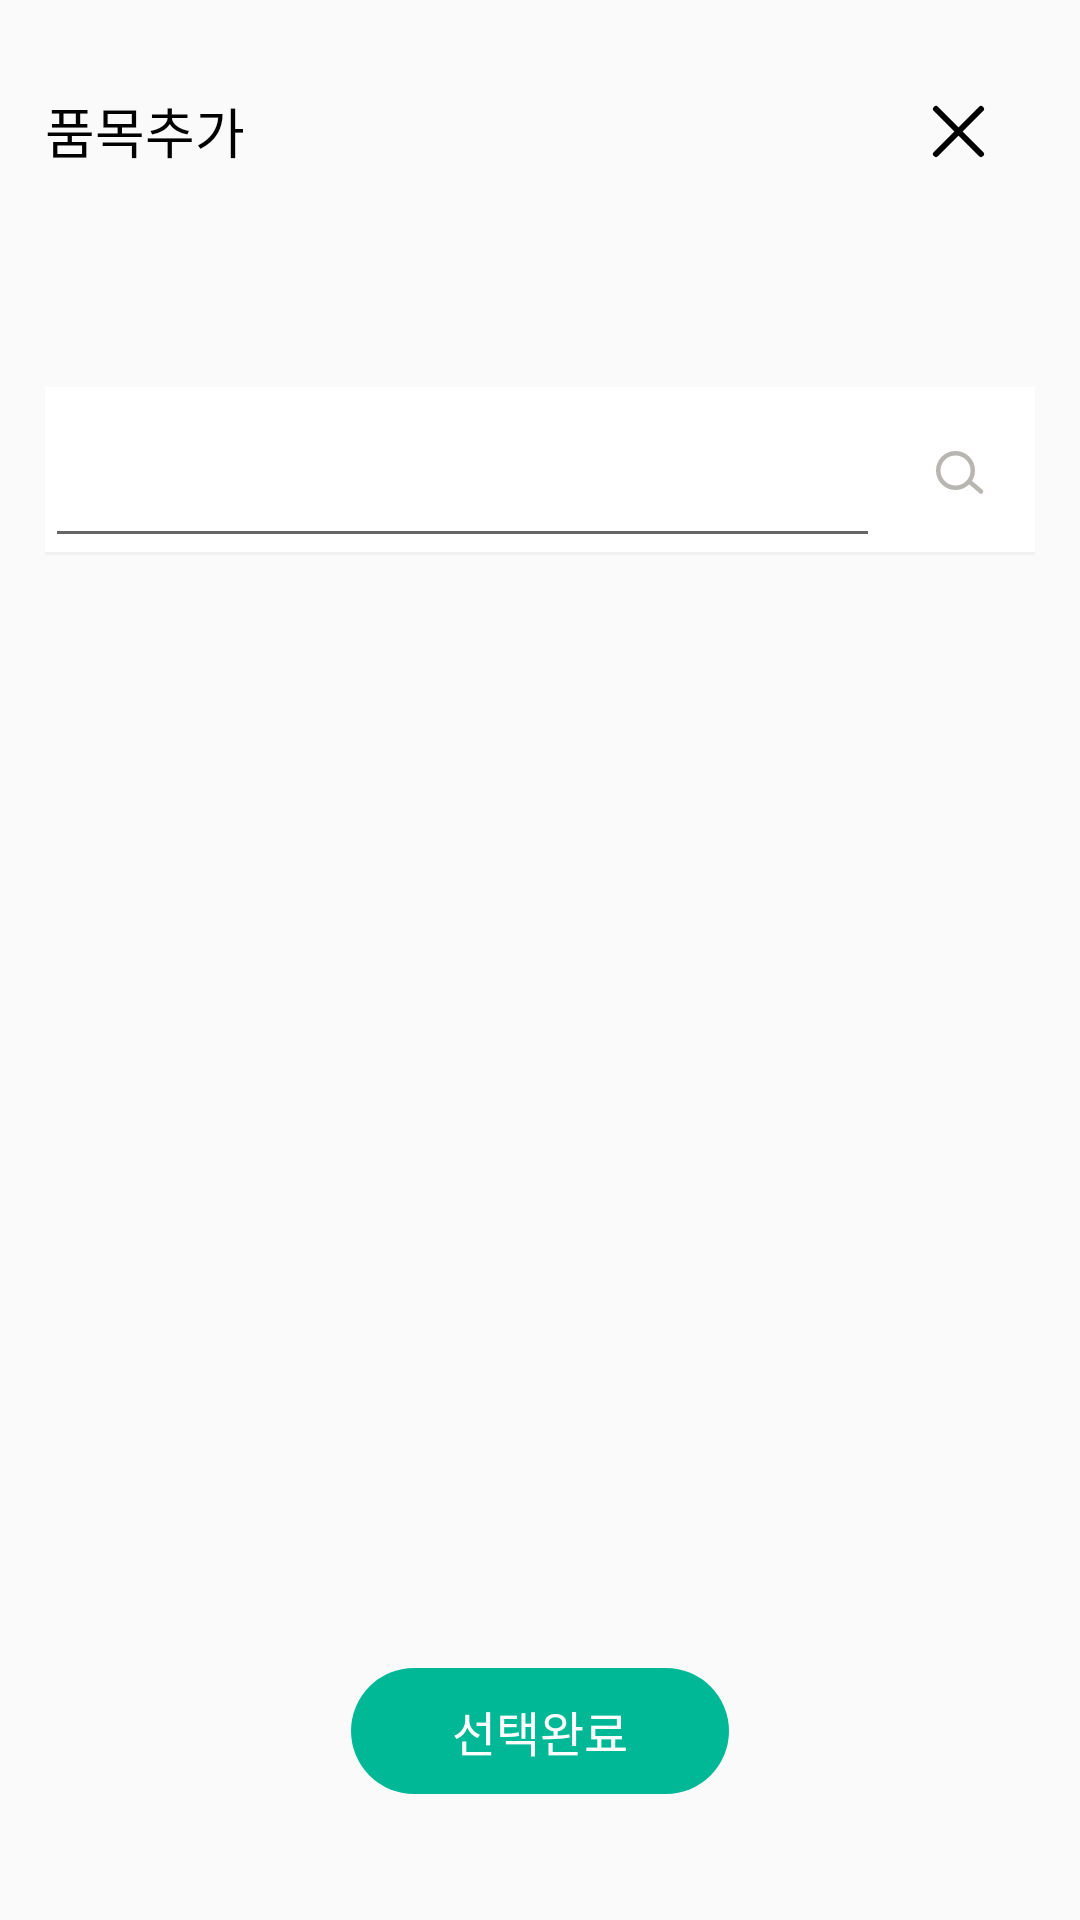

Named icons in this screenshot (1080*1920) and their centers, (x,y):
btnclose: (958,131)
btnsearch: (959,472)
